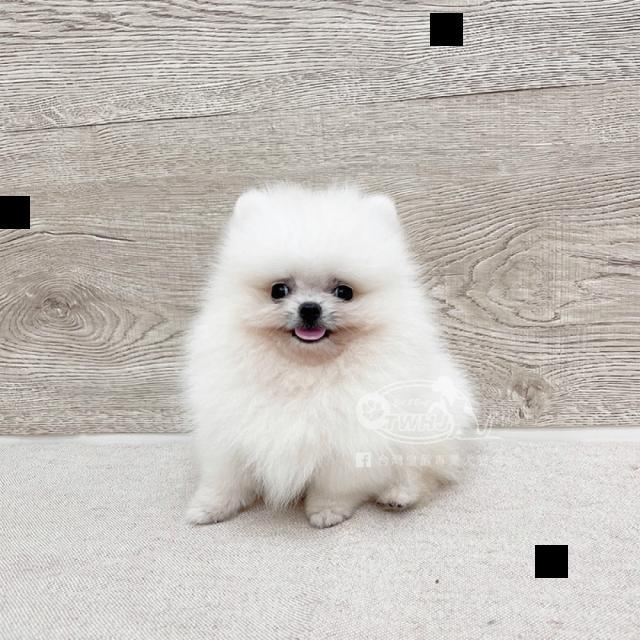puppy-dog: (171, 180, 479, 531)
